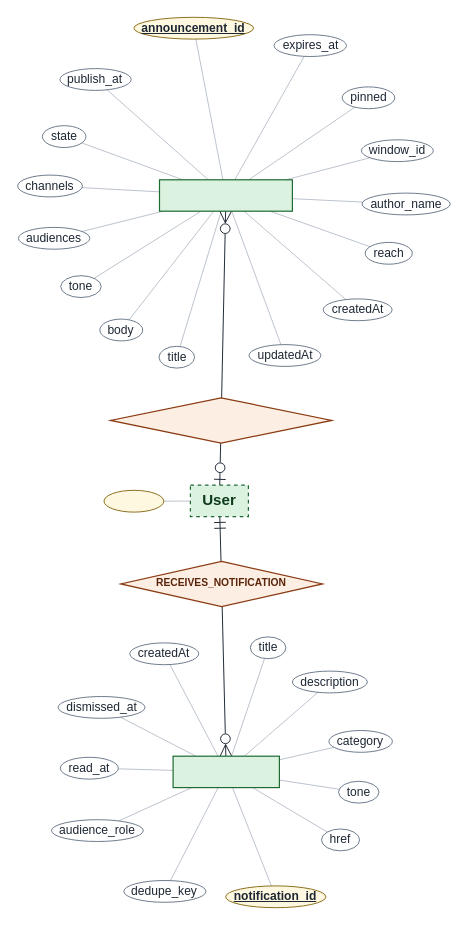
This 468x926 diagram has some shape labels left out. Here are the shapes that lost their labels. From the top down, the centre of each, then its label:
At (x=225, y=195): "Announcement".
At (x=220, y=420): "AUTHORS_ANNOUNCEMENT".
At (x=133, y=500): "user_id".
At (x=226, y=771): "Notification".
